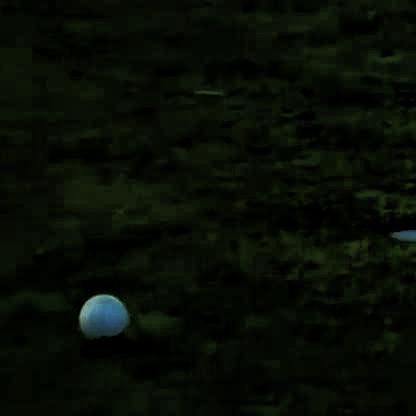golfball: (73, 287, 124, 341)
